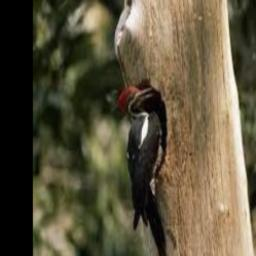Woodpecker: (118, 85, 169, 256)
